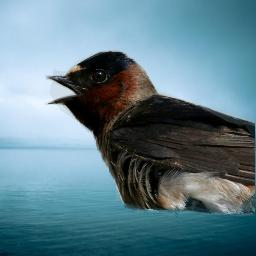Swallow: (44, 50, 255, 216)
